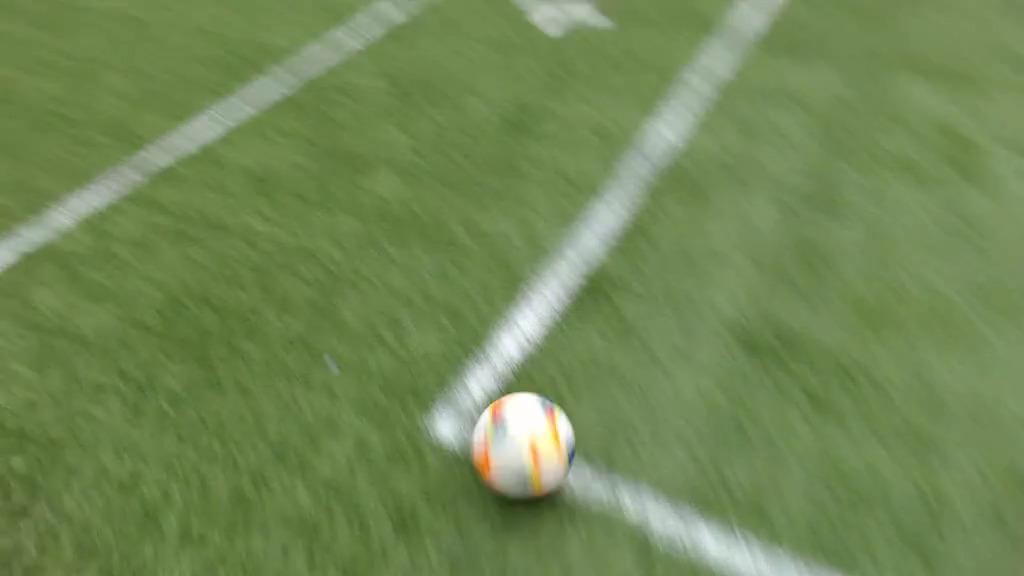ball: (473, 392, 577, 499)
